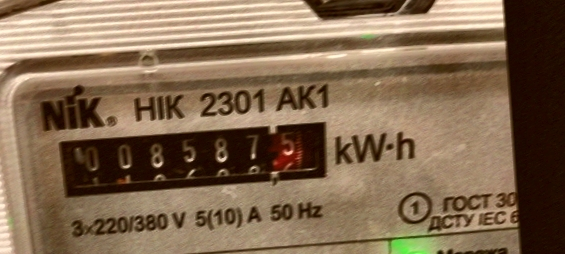0: (82, 144, 101, 174), (116, 142, 135, 171)
5: (279, 130, 298, 160), (180, 137, 199, 166)
7: (243, 132, 262, 163)
8: (212, 135, 231, 166), (148, 141, 166, 170)
screen: (41, 107, 348, 211)
